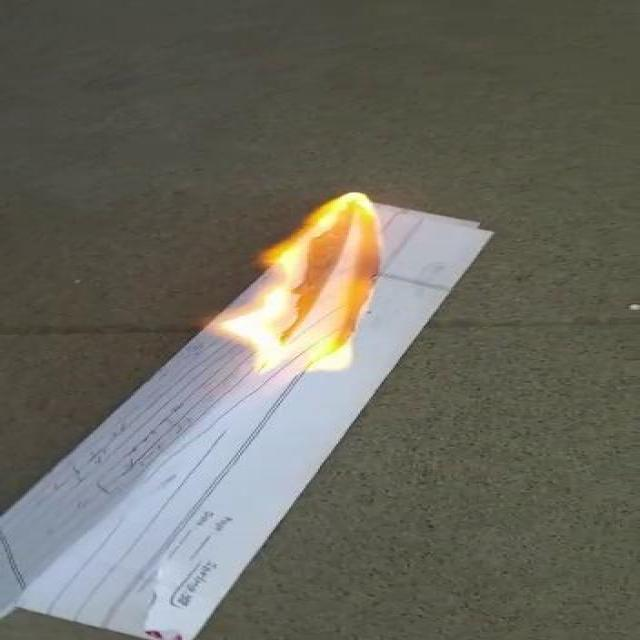Fire: (218, 185, 380, 376)
